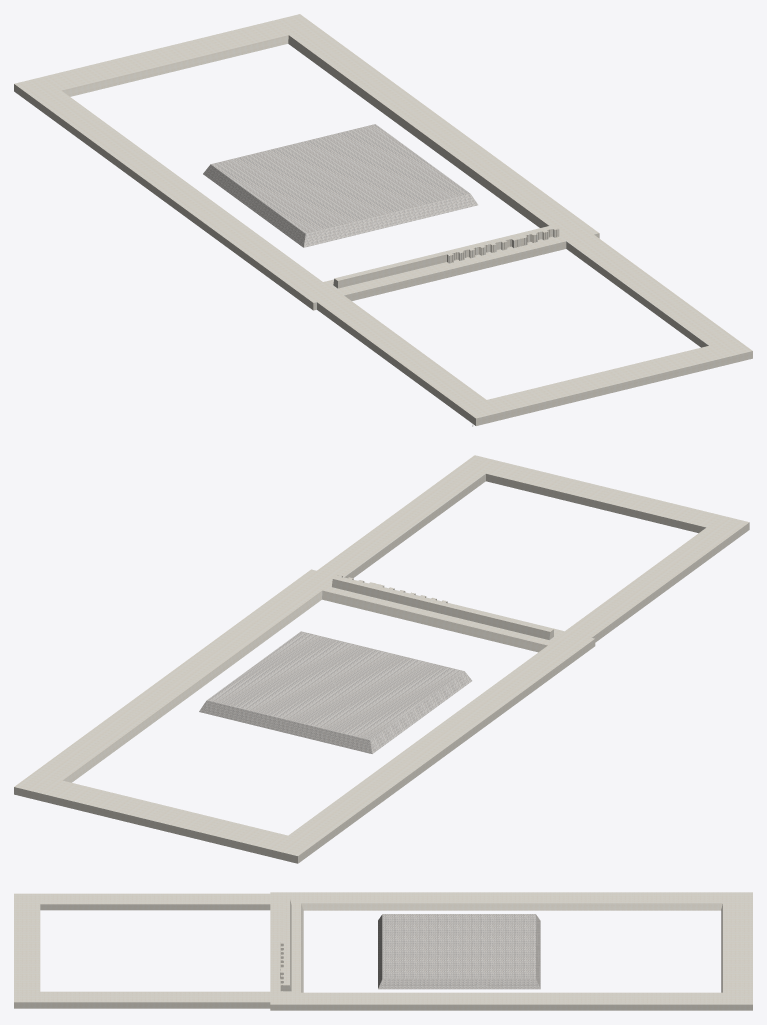
The model's file is Sekhemkhet_Pyramid.glb.
3 renders of one model, top to bottom at view 1: azimuth 30°, elevation 25°; view 2: azimuth 150°, elevation 25°; view 3: azimuth 270°, elevation 25°, orthographic. The views are drawn at different scales.
Visible parts, largest first — view 1: Mesh2 Model, Mesh1 Model; view 2: Mesh2 Model, Mesh1 Model; view 3: Mesh2 Model, Mesh1 Model.
Boxes of the visible parts, <box> form: Mesh2 Model: <box>14,14,752,425</box>; Mesh1 Model: <box>203,124,477,247</box>; Mesh2 Model: <box>14,455,749,863</box>; Mesh1 Model: <box>199,631,472,753</box>; Mesh2 Model: <box>14,892,752,1010</box>; Mesh1 Model: <box>378,914,540,989</box>.
Size of the model in its own units: 196 by 10 by 545.
3 materials, 3 textured.
